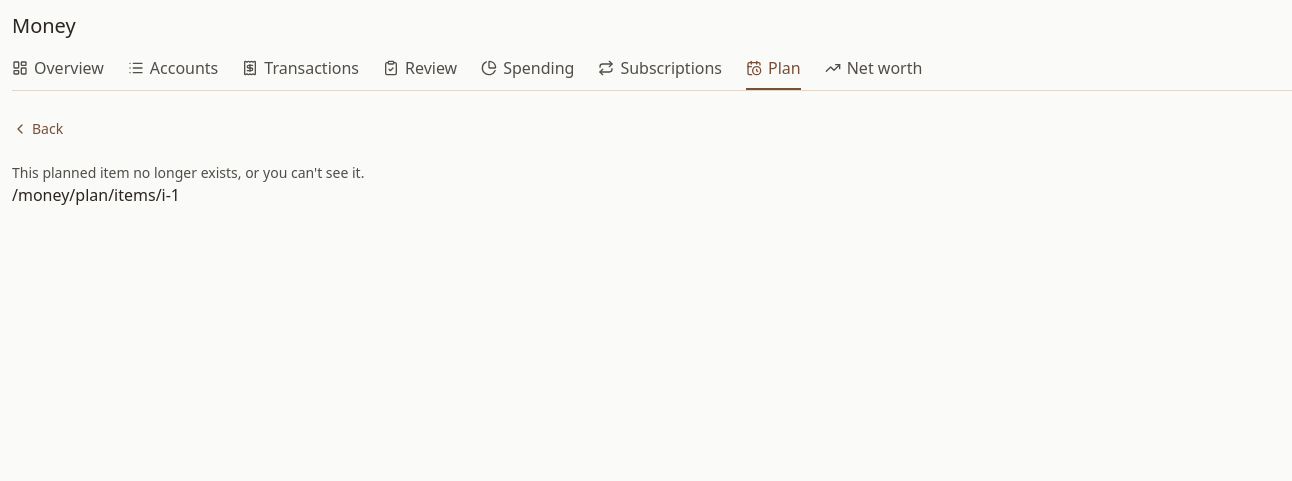
opens item detail by URL; Back goes to the Plan list, or to the project it was opened from
Expected: the text "This planned item no longer exists, or you can't see it." is shown, [12, 163, 364, 182]
Click the button "Back": (38, 129) [12, 107, 63, 151]
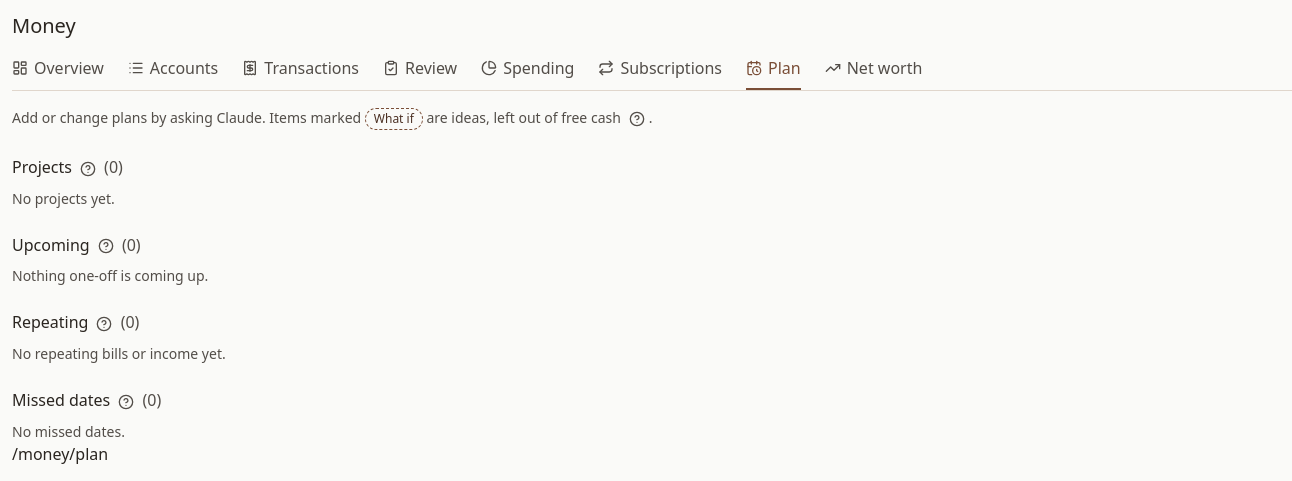
Result: the text with test id "where" reads "/money/plan" at [12, 443, 108, 465]
